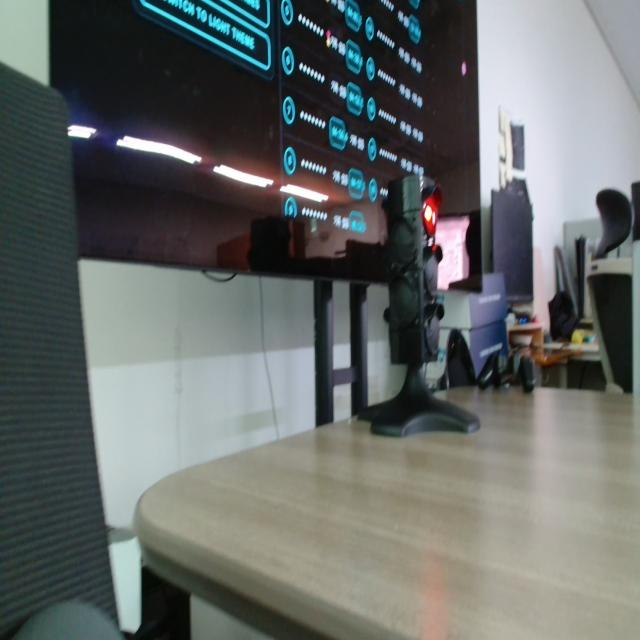red_light: (423, 199, 437, 237)
